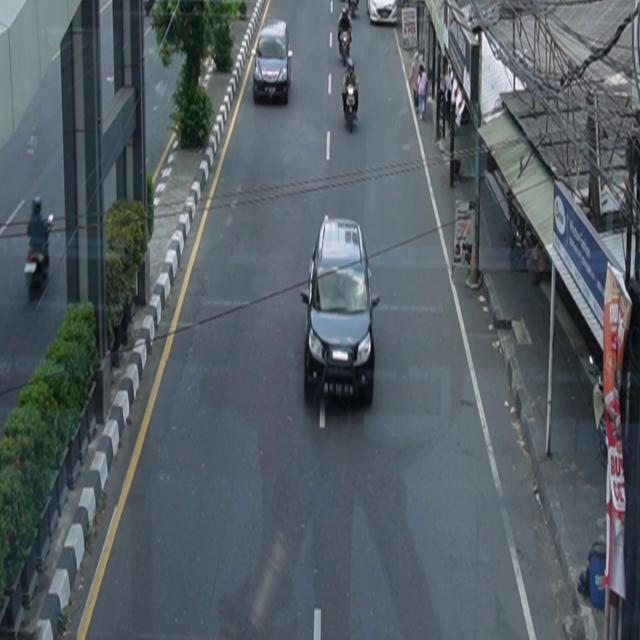car: (301, 216, 381, 408), (253, 20, 293, 105)
